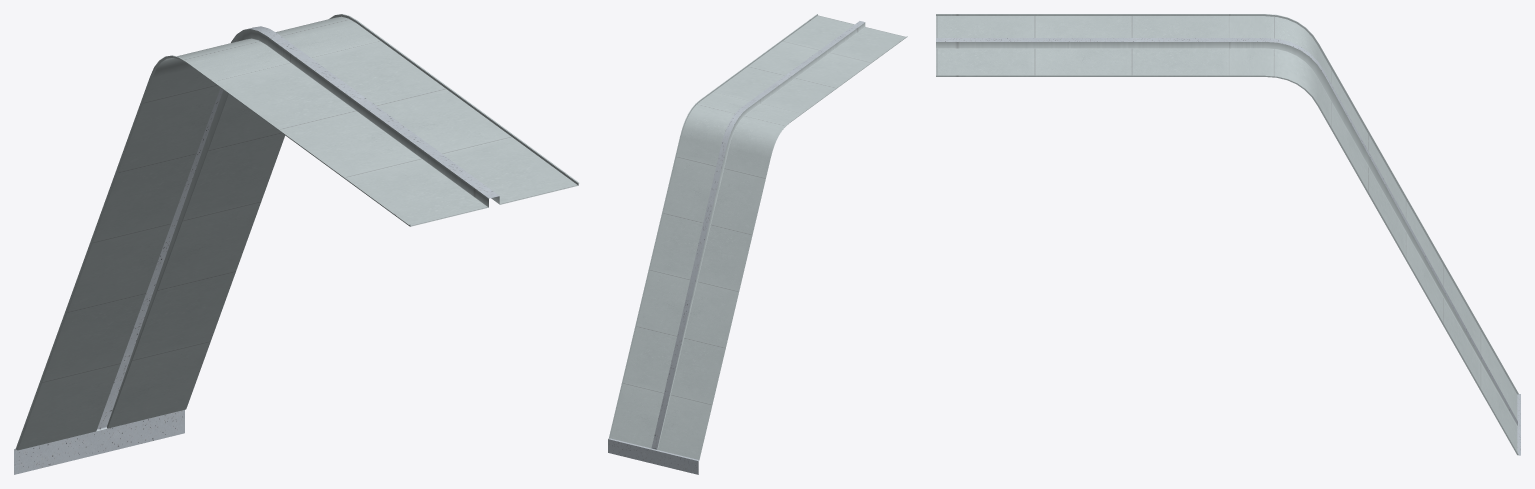
3 views of the same model, side by side, from view 1: azimuth 30°, elevation 25°; view 2: azimuth 150°, elevation 25°; view 3: azimuth 270°, elevation 25° (orthographic). The views are drawn at different scales.
Visible parts, largest first — view 1: M_W_005_g_4x12; view 2: M_W_005_g_4x12; view 3: M_W_005_g_4x12.
Part boxes in pixels (box(x1,y1,x2,y2)): M_W_005_g_4x12: box(14, 14, 579, 474); M_W_005_g_4x12: box(608, 14, 907, 474); M_W_005_g_4x12: box(936, 14, 1520, 455).
Bounding box in the file's own units: 4 × 12.2 × 16.
